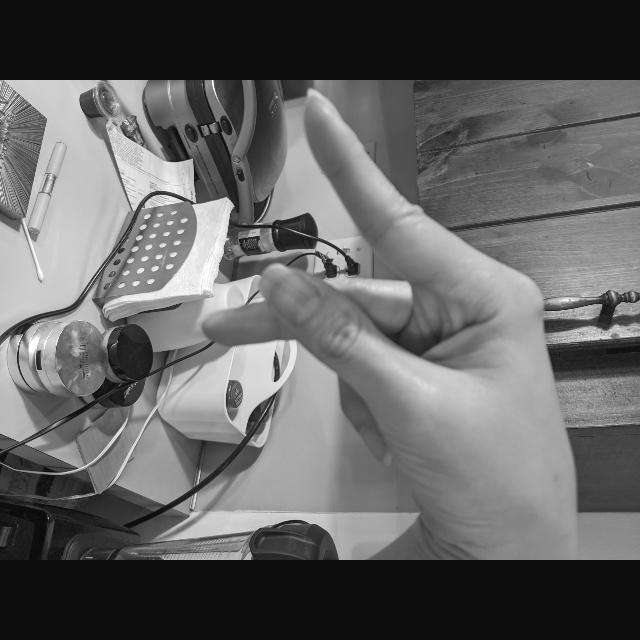P: (193, 85, 584, 519)
